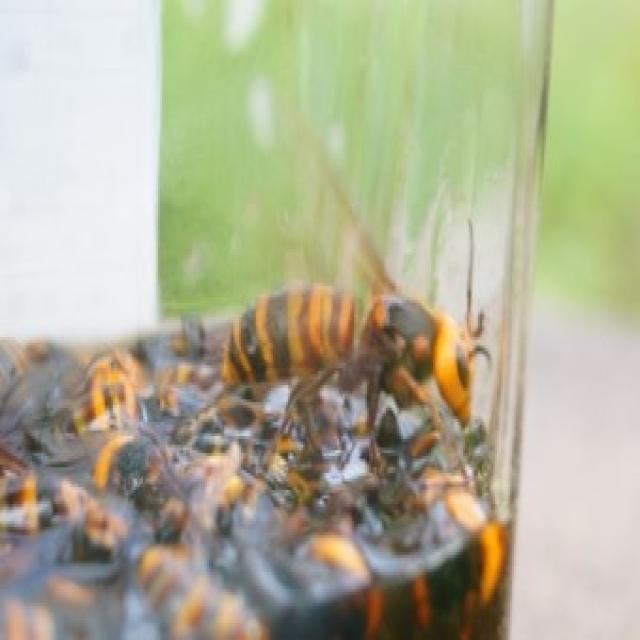Wasp: (222, 227, 486, 429)
